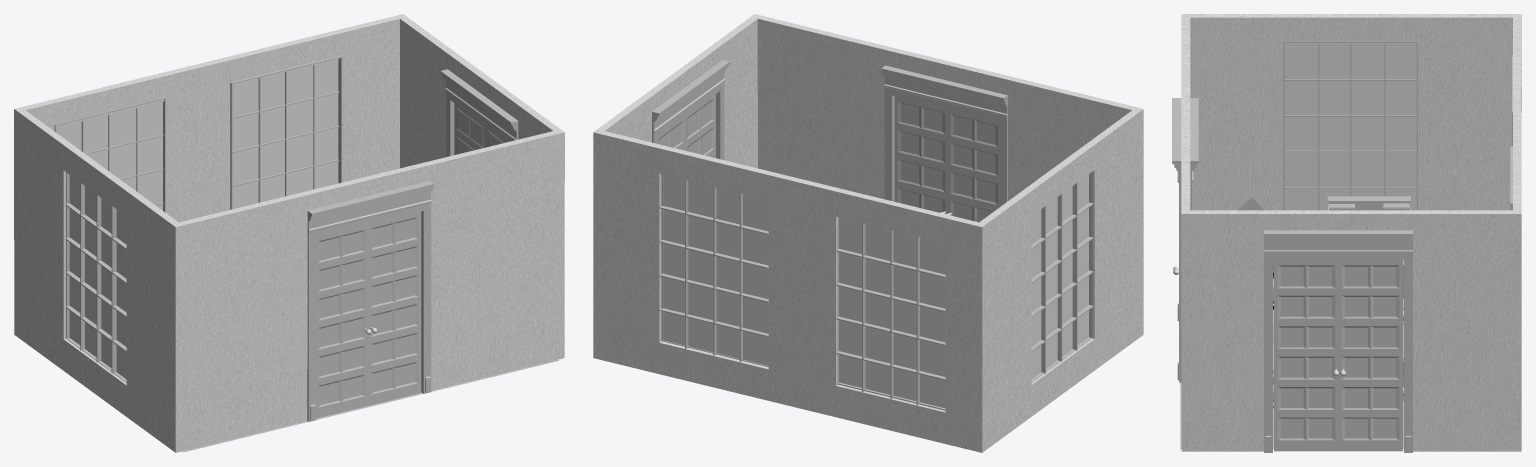
File: muebles.fbx
3 renders of one model, left to right at view 1: azimuth 30°, elevation 25°; view 2: azimuth 150°, elevation 25°; view 3: azimuth 270°, elevation 25°, orthographic. The views are drawn at different scales.
Parts seen in each view (by area): view 1: Rectangle014, Plane025, Plane052, Plane047, Box127, Plane050, Plane049, Box151, Rectangle004, Plane063, Line015, Line016 (+4 smaller); view 2: Rectangle014, Plane049, Plane025, Plane050, Plane052, Box127, Plane047, Box151, Plane062, Line016, Line015, Rectangle011 (+10 smaller); view 3: Rectangle014, Plane050, Plane062, Plane063, Box151, Box127, Rectangle011, Box026, Box021, Line020.
Part boxes in pixels (bbox=[...]): Rectangle014: bbox=[14, 14, 564, 452]; Plane025: bbox=[232, 59, 338, 208]; Plane052: bbox=[368, 211, 421, 405]; Plane047: bbox=[316, 224, 368, 418]; Box127: bbox=[307, 181, 434, 421]; Plane050: bbox=[69, 175, 126, 379]; Plane049: bbox=[56, 102, 162, 210]; Box151: bbox=[440, 69, 518, 156]; Rectangle004: bbox=[230, 55, 342, 209]; Plane063: bbox=[454, 103, 484, 154]; Line015: bbox=[111, 206, 116, 373]; Line016: bbox=[96, 195, 101, 362]; Rectangle014: bbox=[593, 14, 1143, 452]; Plane049: bbox=[839, 217, 945, 408]; Plane025: bbox=[663, 174, 768, 365]; Plane050: bbox=[1031, 174, 1088, 378]; Plane052: bbox=[894, 96, 947, 213]; Box127: bbox=[881, 65, 1007, 206]; Plane047: bbox=[948, 109, 999, 222]; Box151: bbox=[652, 60, 729, 159]; Plane062: bbox=[685, 94, 715, 157]; Line016: bbox=[1057, 194, 1062, 361]; Line015: bbox=[1072, 183, 1077, 350]; Rectangle011: bbox=[1031, 172, 1092, 382]; Rectangle014: bbox=[1181, 14, 1521, 451]; Plane050: bbox=[1284, 44, 1416, 210]; Plane062: bbox=[1274, 260, 1338, 451]; Plane063: bbox=[1338, 260, 1402, 451]; Box151: bbox=[1264, 230, 1412, 452]; Box127: bbox=[1172, 98, 1198, 382]; Rectangle011: bbox=[1283, 41, 1417, 210]; Box026: bbox=[1329, 202, 1408, 210]; Box021: bbox=[1327, 196, 1410, 210]; Line020: bbox=[1284, 150, 1416, 152].
Size of what is drawn, in the model's own units: 727 by 400 by 527.
